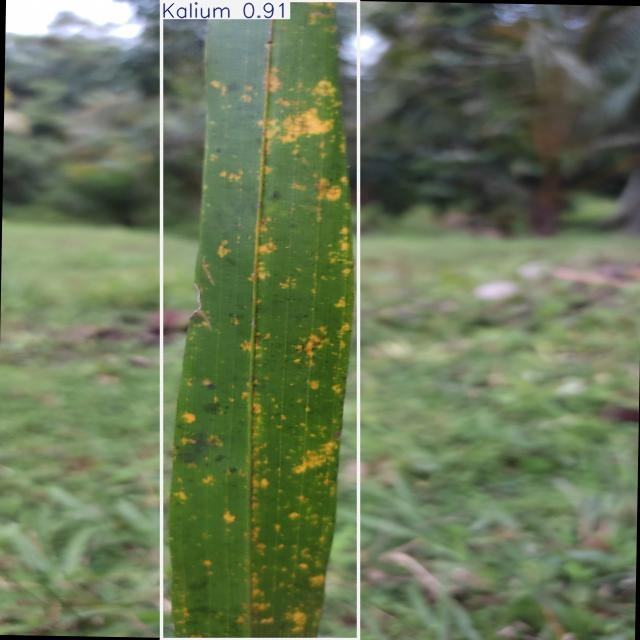Kalium: (161, 0, 358, 640)
